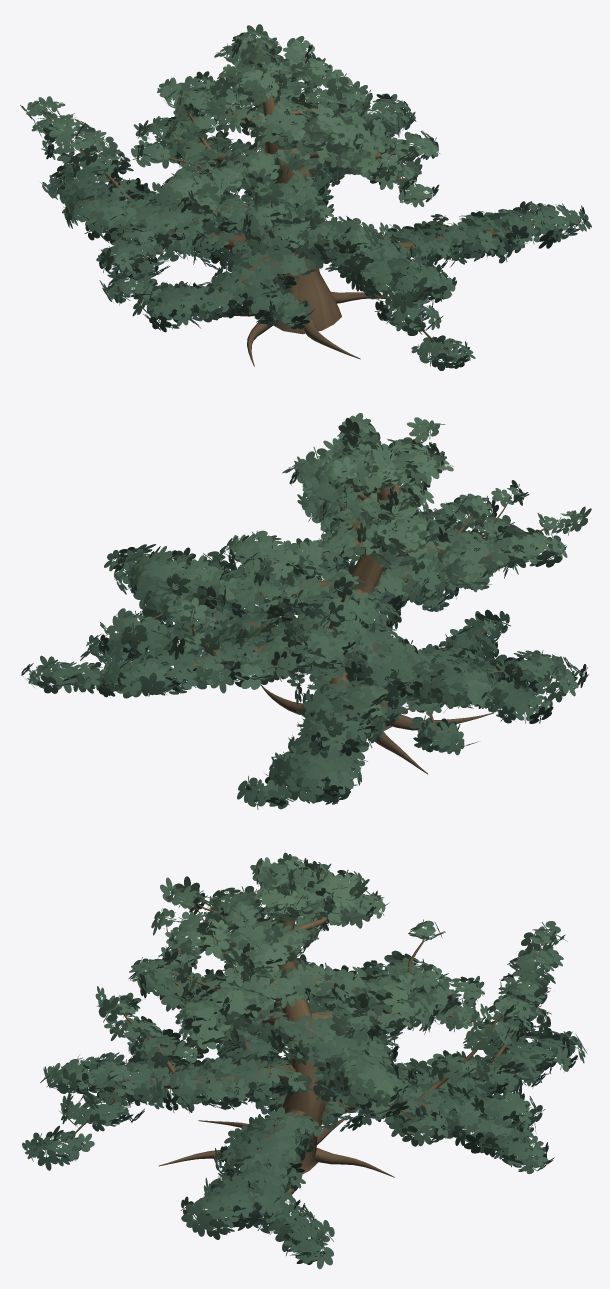
The model's file is tree.gltf.
3 renders of one model, top to bottom at view 1: azimuth 30°, elevation 25°; view 2: azimuth 150°, elevation 25°; view 3: azimuth 270°, elevation 25°, orthographic. The views are drawn at different scales.
Parts seen in each view (by area): view 1: Tree_LOD0; view 2: Tree_LOD0; view 3: Tree_LOD0.
Boxes of the visible parts, x1,y1,x2,y2 form: Tree_LOD0: [20, 24, 591, 370]; Tree_LOD0: [21, 413, 591, 809]; Tree_LOD0: [22, 852, 587, 1269].
Bounding box in the file's own units: 12.84 × 7.56 × 13.27.
Materials: 2 (2 with a texture image).
